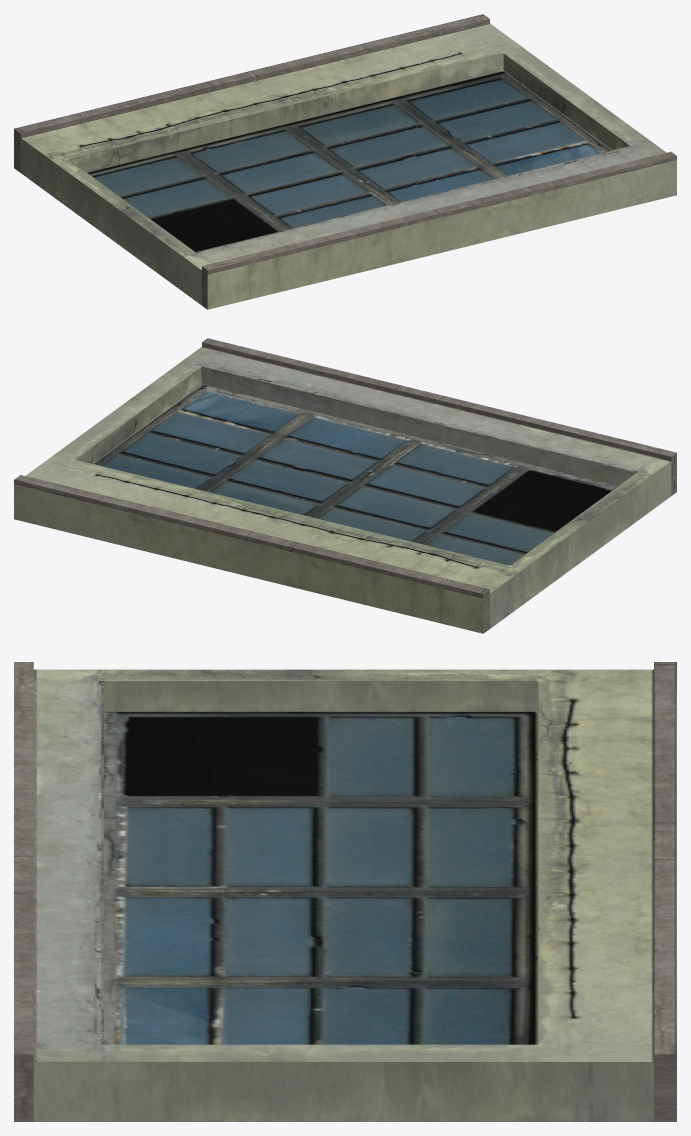
Rendered from Window_Large03.FBX.
3 views of the same model, one above another, from view 1: azimuth 30°, elevation 25°; view 2: azimuth 150°, elevation 25°; view 3: azimuth 270°, elevation 25° (orthographic). The views are drawn at different scales.
Visible parts, largest first — view 1: Window_Large03; view 2: Window_Large03; view 3: Window_Large03.
Boxes of the visible parts, bbox=[...] form: Window_Large03: bbox=[14, 14, 676, 309]; Window_Large03: bbox=[14, 338, 676, 633]; Window_Large03: bbox=[14, 662, 676, 1121].
Size of the model in its own units: 448 by 36 by 320.
